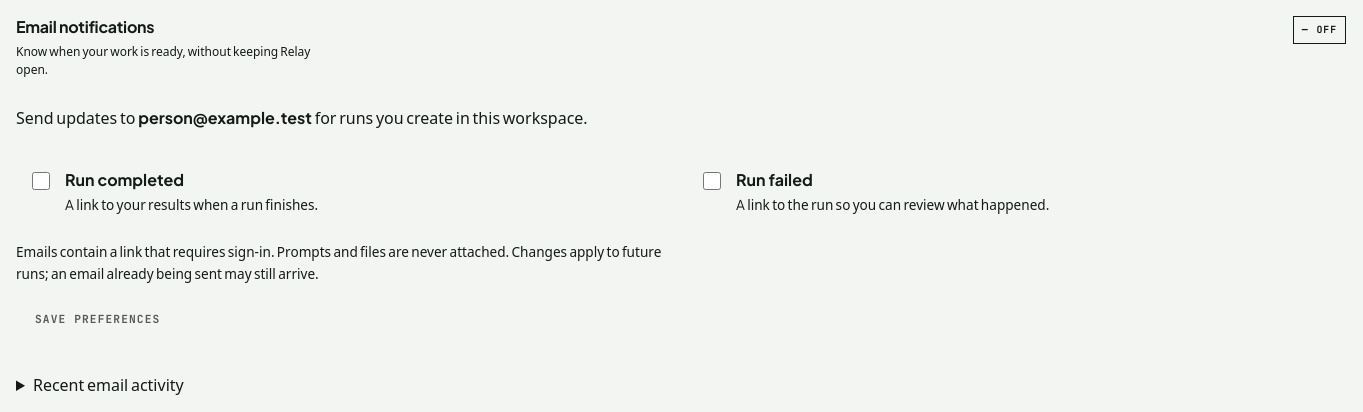
Test case: keeps email disabled until the user chooses and saves preferences
This screenshot has width=1363, height=412.
Expected: the button "Save preferences" is disabled, [16, 298, 179, 342]
Click the checkbox labelled "Run completed A link to your results when a run finishes.": (41, 181) [32, 172, 50, 190]
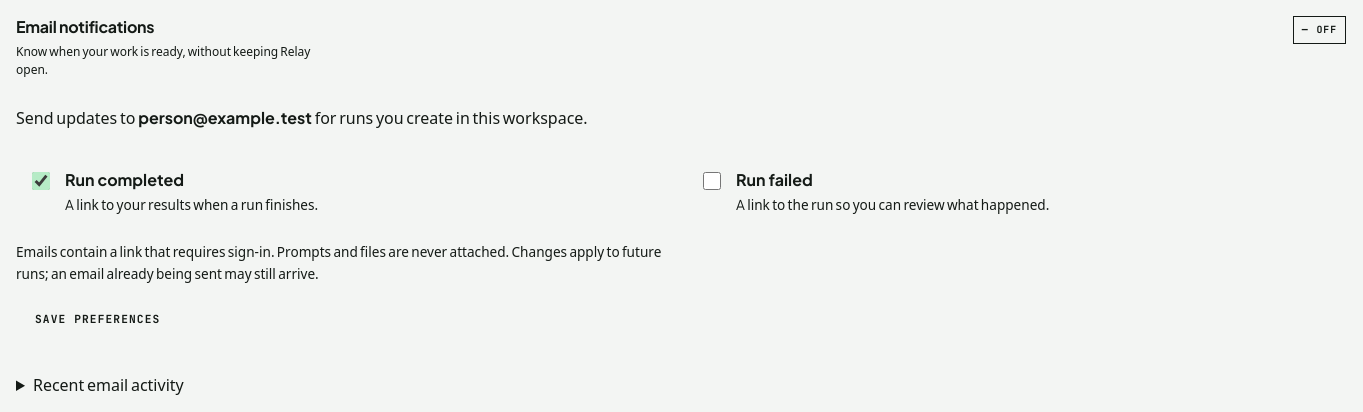
Click the button "Save preferences": (98, 320) [16, 298, 179, 342]
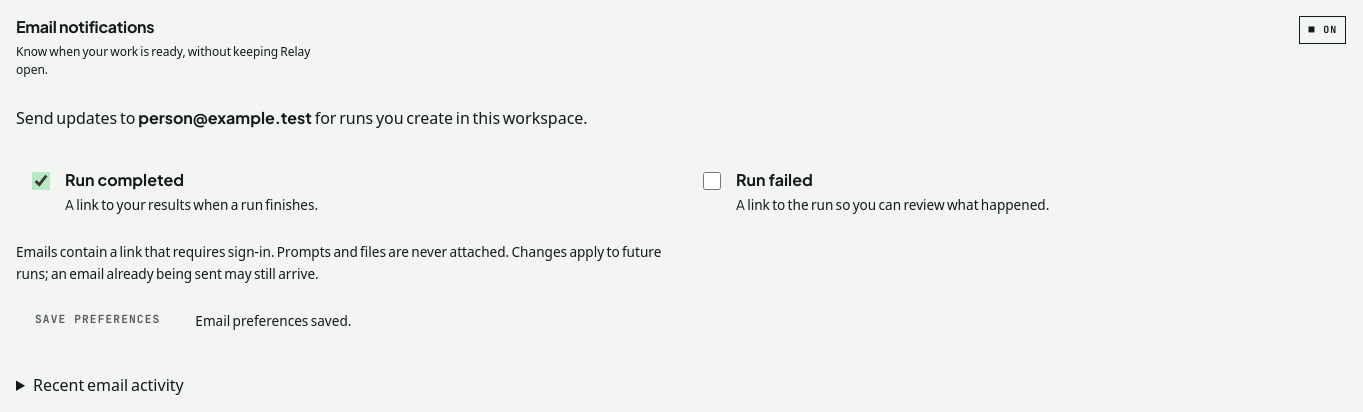
Now the text "Email preferences saved." is shown, box [195, 310, 351, 330]
